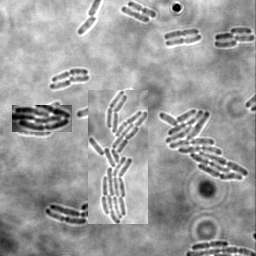Dividing: (52, 67, 89, 81), (128, 1, 157, 18), (166, 34, 202, 47), (164, 28, 200, 39), (192, 239, 229, 249)
Microcolony: (88, 90, 148, 224), (158, 109, 249, 180), (45, 199, 121, 224), (12, 105, 72, 132), (214, 27, 255, 48)
Rod: (121, 5, 150, 23), (78, 16, 99, 34), (50, 79, 72, 89), (69, 73, 90, 82)
